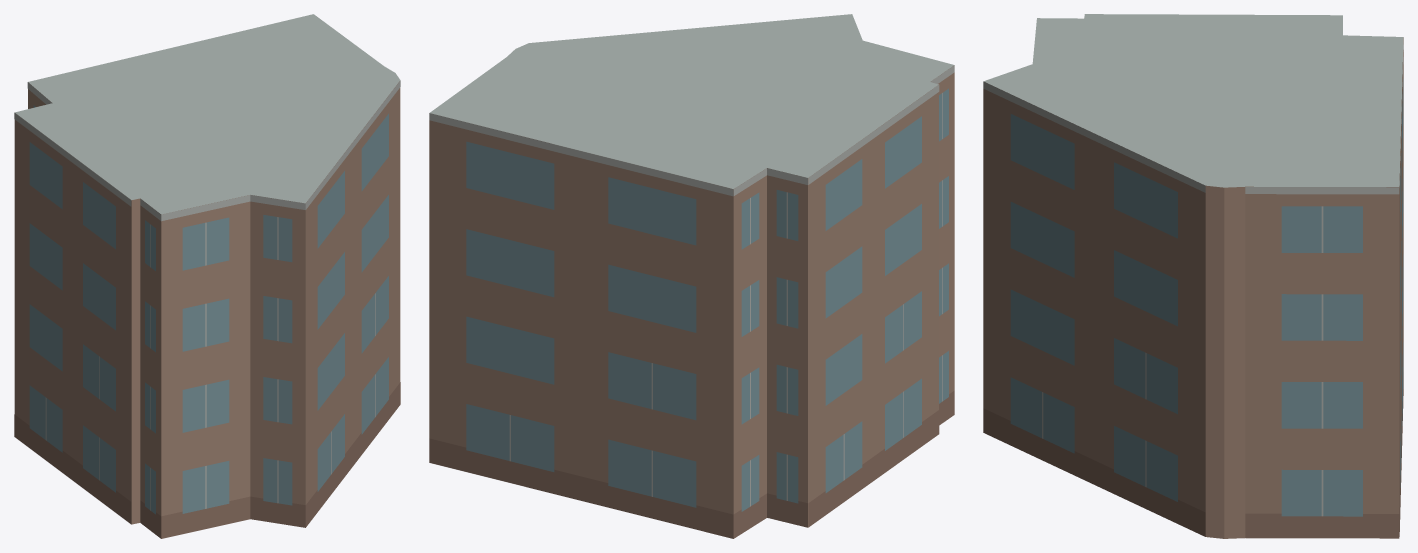
The model's file is survey-upis-32616731.glb.
3 views of the same model, side by side, from view 1: azimuth 30°, elevation 25°; view 2: azimuth 150°, elevation 25°; view 3: azimuth 270°, elevation 25° (orthographic). The views are drawn at different scales.
Visible parts, largest first — view 1: survey-upis-32616731.tmp; view 2: survey-upis-32616731.tmp; view 3: survey-upis-32616731.tmp.
Boxes of the visible parts, <box> form: survey-upis-32616731.tmp: <box>14,14,400,538</box>; survey-upis-32616731.tmp: <box>429,14,954,538</box>; survey-upis-32616731.tmp: <box>983,14,1403,538</box>.
Size of the model in its own units: 12.4 by 11.7 by 12.69.
